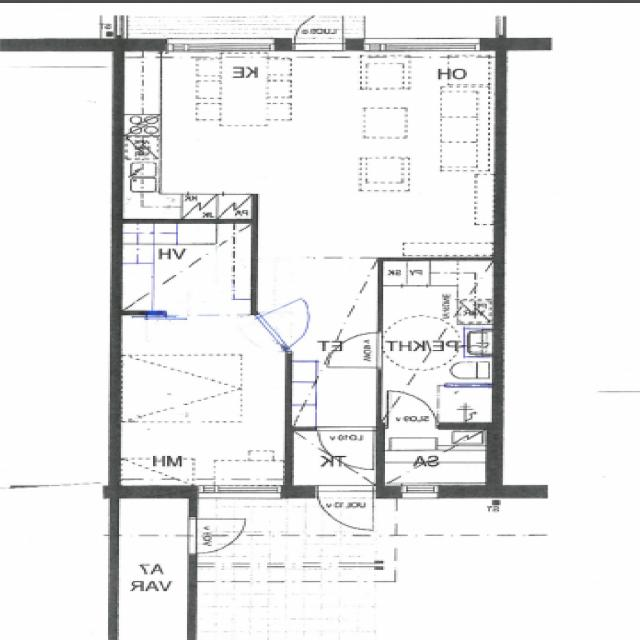door: (256, 297, 331, 349), (319, 486, 373, 537), (295, 3, 345, 50), (319, 426, 373, 469), (388, 389, 436, 430), (188, 520, 245, 552), (328, 334, 382, 367)
